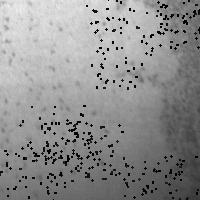pitted_surface: (3, 1, 83, 195), (134, 3, 200, 178), (91, 27, 151, 87), (46, 126, 104, 186), (65, 123, 123, 179), (31, 105, 88, 161), (19, 119, 77, 174), (0, 144, 54, 200), (146, 0, 200, 47), (141, 155, 197, 200), (122, 163, 181, 200), (156, 0, 200, 47), (82, 0, 138, 32)
